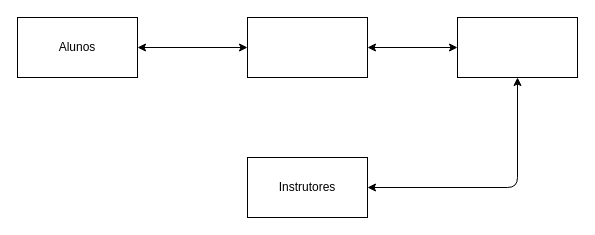
Some shapes in this 595 by 235 pixel diagram are drawn without their labels. The shapes that lost their labels are listed below. From the top down, each one's centre as x and y in pixels, then its label:
At point 307,47: "Transações".
At point 517,47: "Cursos".
